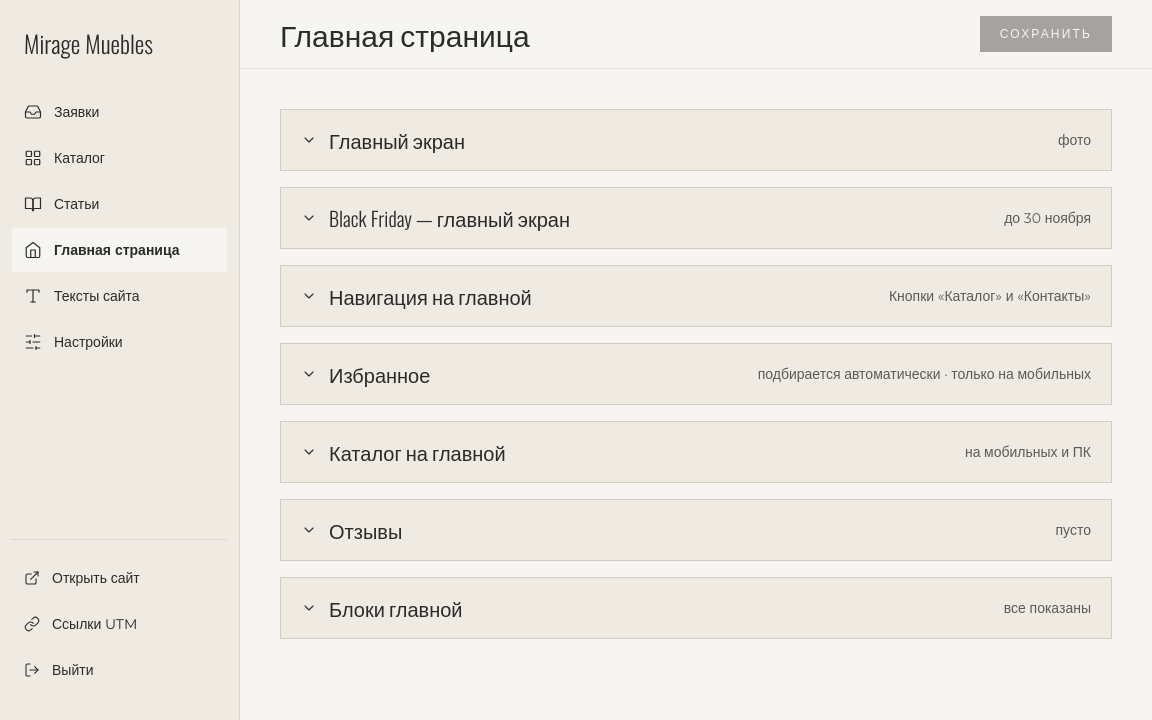
Scenario: home catalog order in the admin › moves a selected product from a hidden category and saves the new order
Later steps or results of the test are not shown.
Click the button "Каталог на главной на мобильных и ПК" at (417, 452), box [281,422,1111,482]
(page scrolled)
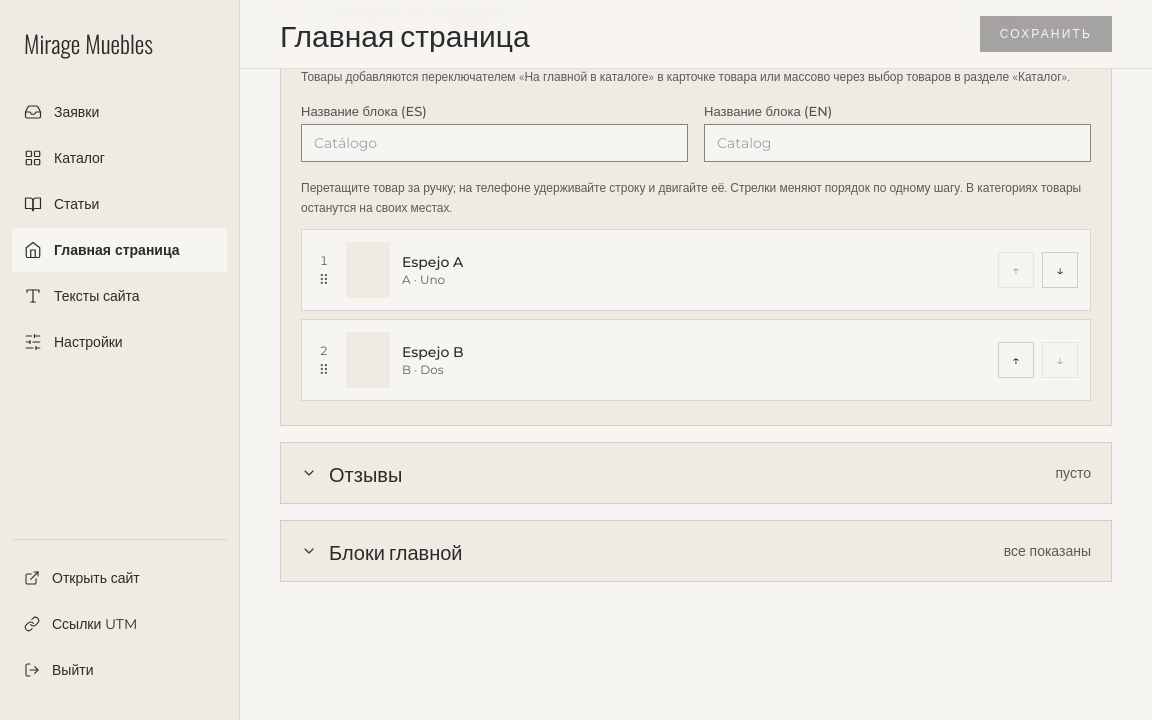
Now the list item "1 ⠿ Espejo A A · Uno ↑ ↓" is shown, box [301,229,1091,311]
Click the button named "Поднять B" at (1016, 360), box [998,342,1034,378]
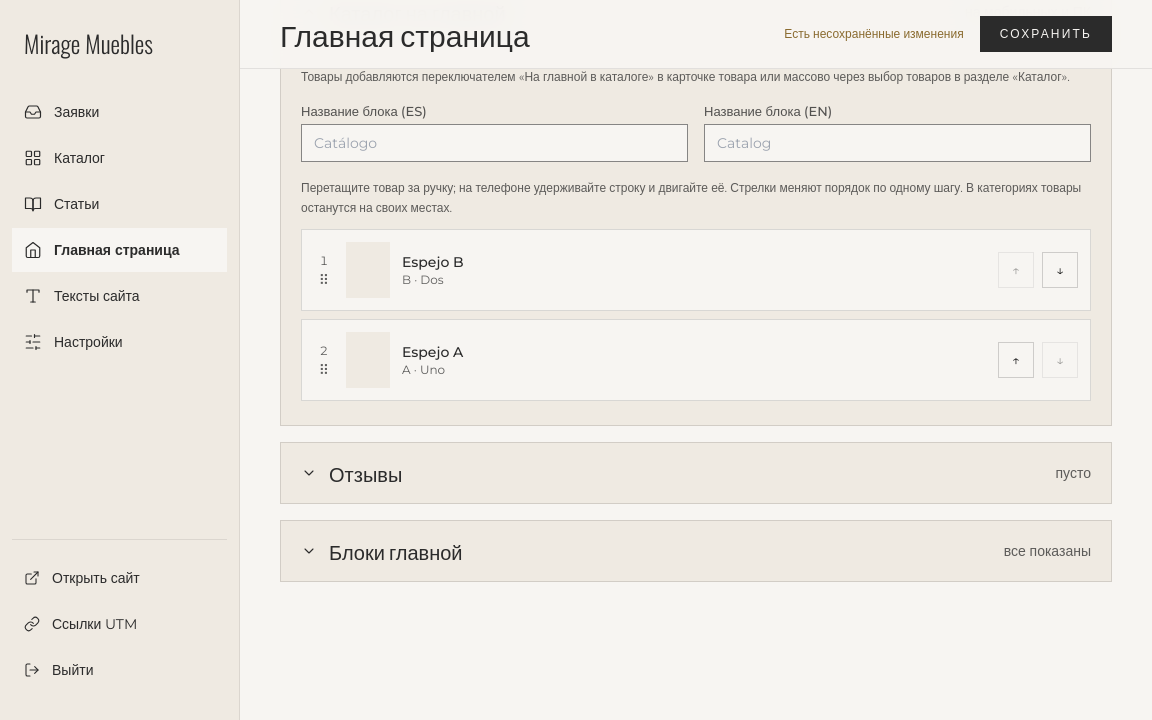
Now the list item "1 ⠿ Espejo B B · Dos ↑ ↓" is shown, box [301,229,1091,311]
